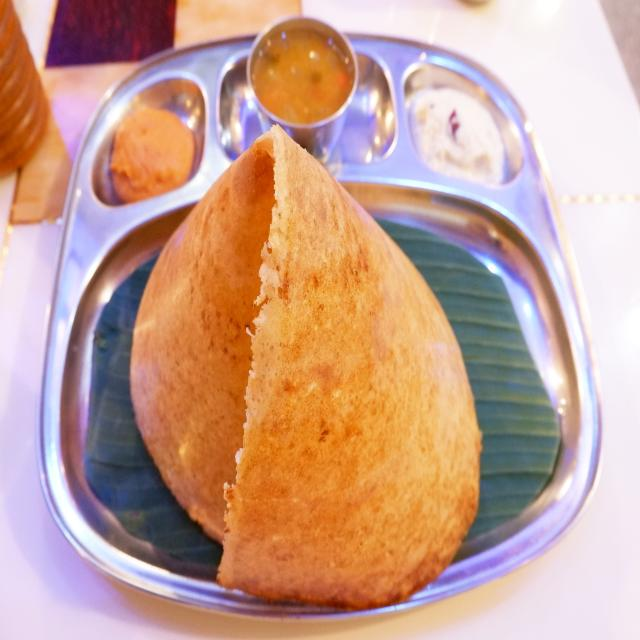DOSA: (127, 128, 482, 608)
